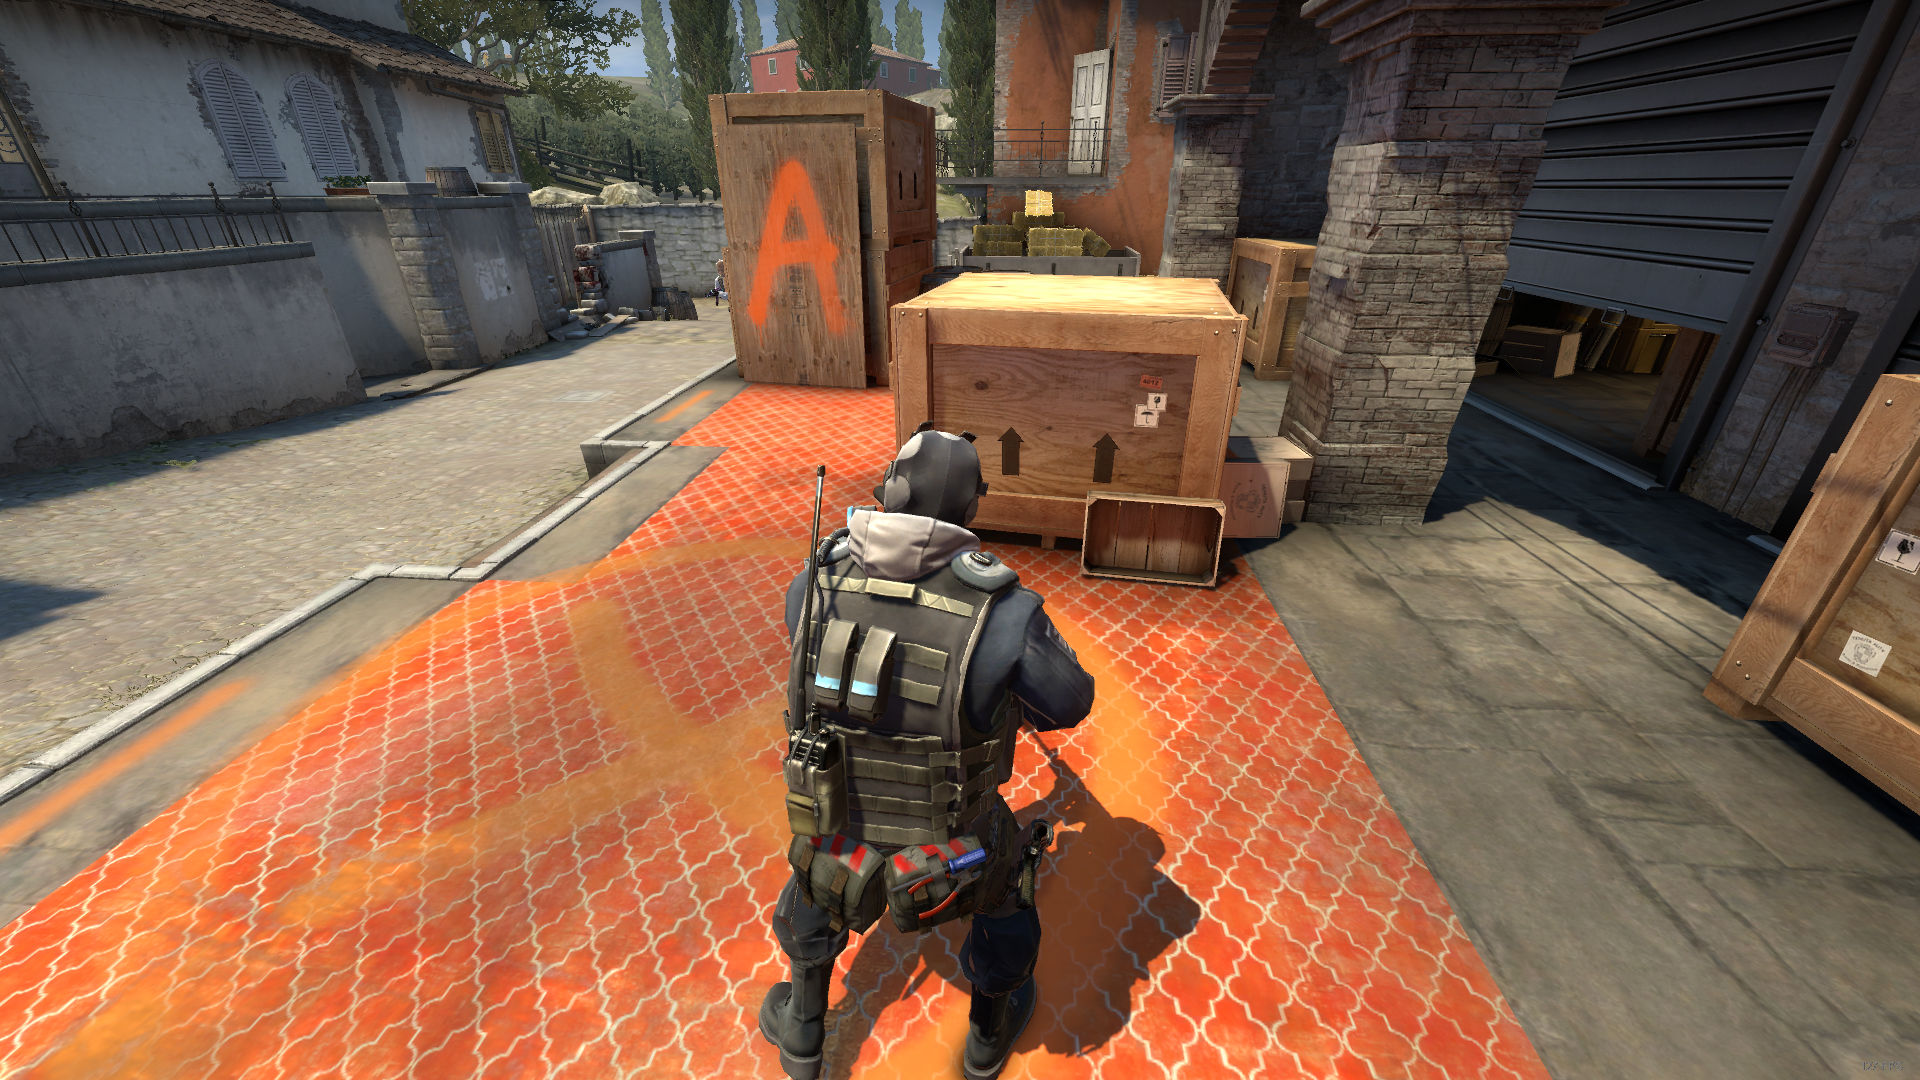ct: (760, 423, 1098, 1080)
